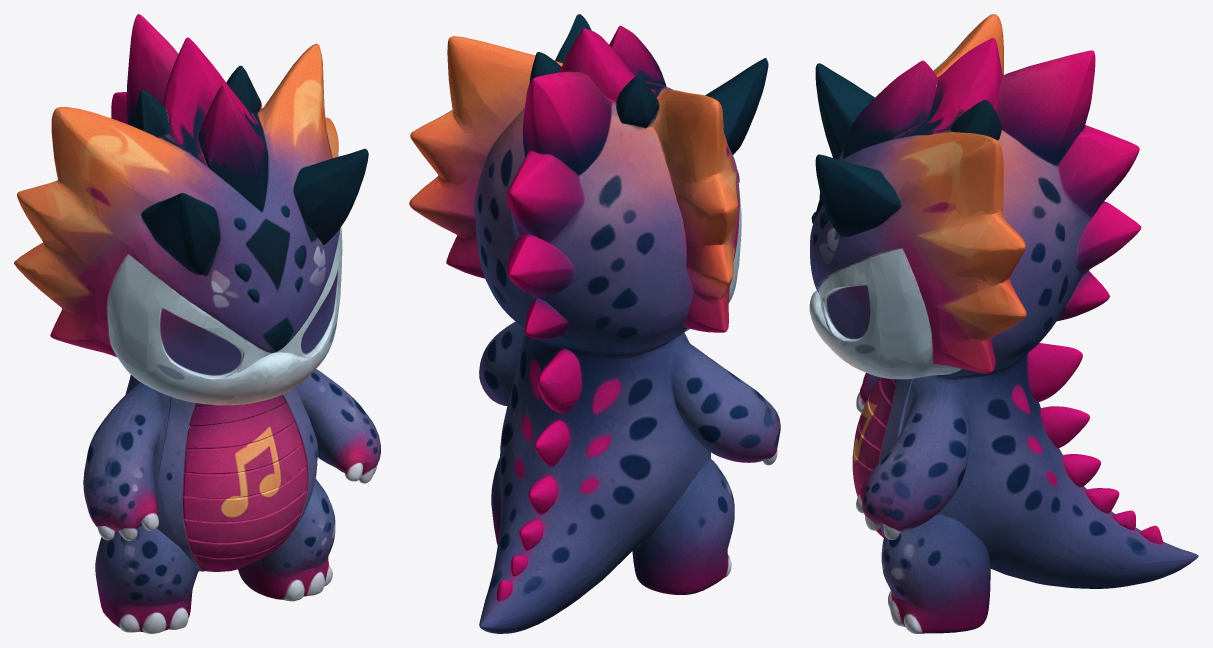
The model's file is chora_blank_meshy71.glb.
The picture shows the model from 3 angles, left to right: view 1: azimuth 30°, elevation 25°; view 2: azimuth 150°, elevation 25°; view 3: azimuth 270°, elevation 25°; orthographic projection.
Size of the model in its own units: 1.16 by 1.9 by 1.23.
Materials: 1 (1 with a texture image).
